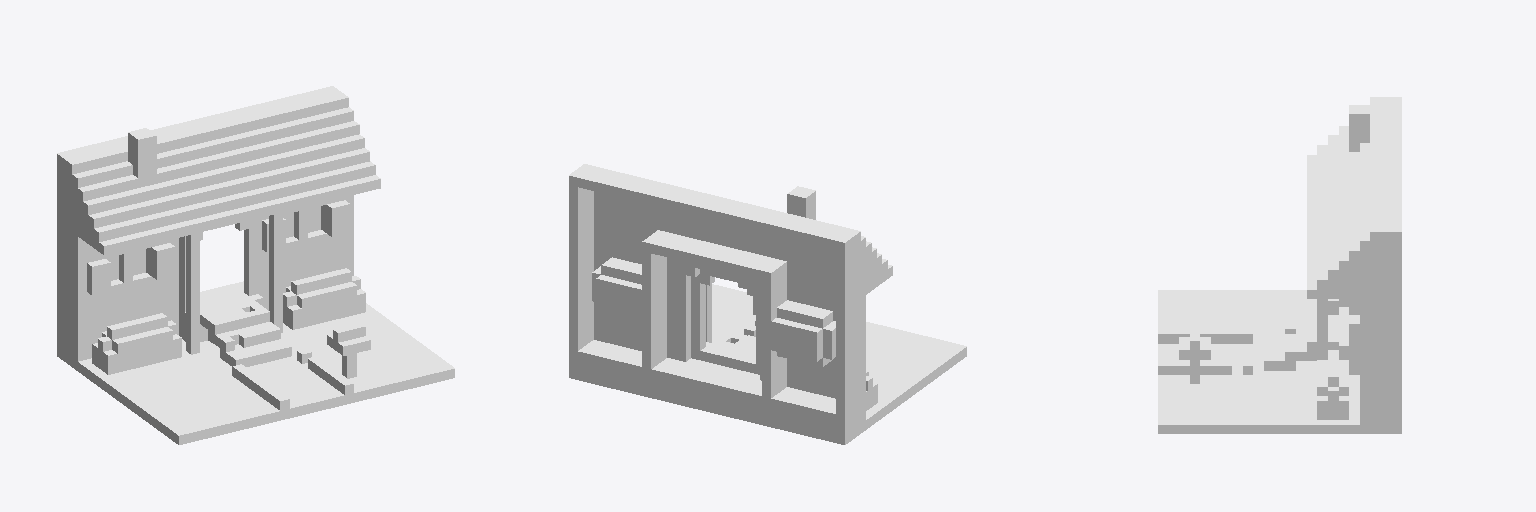
Rendered from maison.obj.
3 renders of one model, left to right at view 1: azimuth 30°, elevation 25°; view 2: azimuth 150°, elevation 25°; view 3: azimuth 270°, elevation 25°, orthographic.
Visible parts, largest first — view 1: object 1; view 2: object 1; view 3: object 1.
Part boxes in pixels (bbox=[...]): object 1: bbox=[57, 86, 454, 444]; object 1: bbox=[569, 164, 966, 444]; object 1: bbox=[1158, 97, 1401, 433].
Size of the model in its own units: 3 by 2.3 by 2.3.